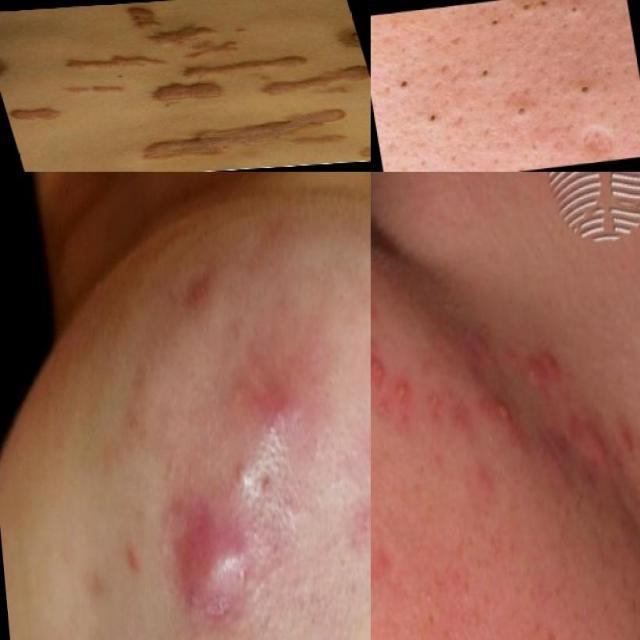Pimples: (147, 463, 274, 640), (226, 323, 329, 483), (124, 104, 364, 162), (517, 320, 574, 405), (171, 52, 314, 84), (247, 65, 371, 99), (554, 114, 636, 165), (52, 50, 175, 76), (394, 96, 465, 141), (132, 21, 232, 50), (140, 78, 234, 104), (511, 0, 584, 27), (173, 36, 250, 61), (586, 421, 614, 482), (556, 70, 604, 104), (484, 386, 520, 426), (393, 61, 428, 102), (55, 80, 132, 98), (120, 3, 166, 33), (5, 104, 70, 124), (468, 59, 504, 90), (370, 338, 390, 386), (480, 1, 503, 32), (393, 369, 413, 402), (512, 100, 534, 118)
